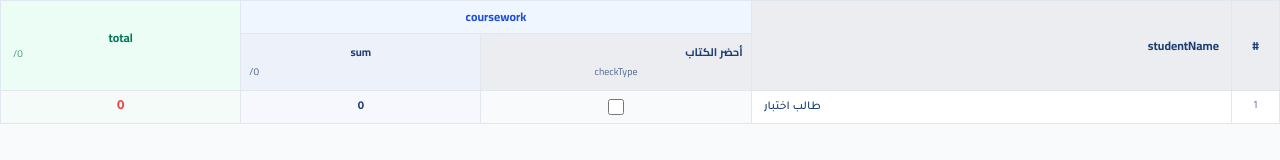
Scenario: FollowupGradesTable input types (درجة/تحقق/نص) › check column renders a checkbox that toggles 1/empty
Click the checkbox at (616, 107), box x1=608 y1=99 x2=624 y2=115
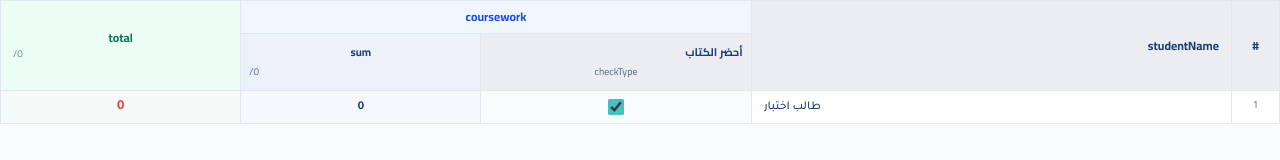
Expected: the checkbox is checked
Click the checkbox at (616, 107), box x1=608 y1=99 x2=624 y2=115
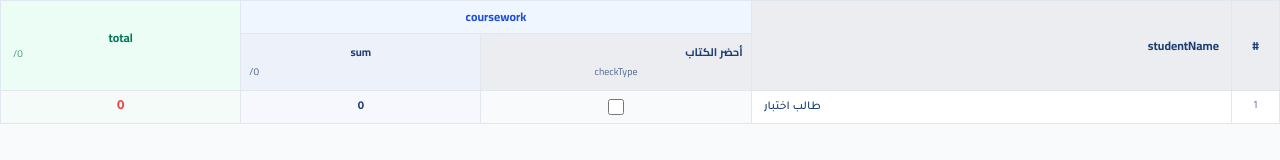
Expected: the checkbox is not checked, x1=608 y1=99 x2=624 y2=115
